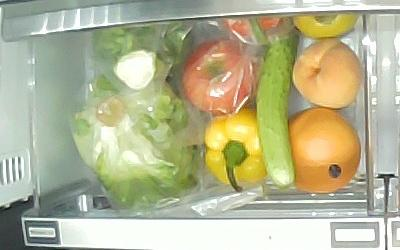apple_vinyl: (183, 40, 259, 115)
broccoli_vinyl: (89, 22, 195, 89)
cucumber: (257, 28, 295, 191)
grapefruit: (288, 108, 361, 194)
lettuce_vinyl: (73, 89, 200, 210)
paprika: (205, 108, 266, 192)
peach: (292, 38, 362, 110)
